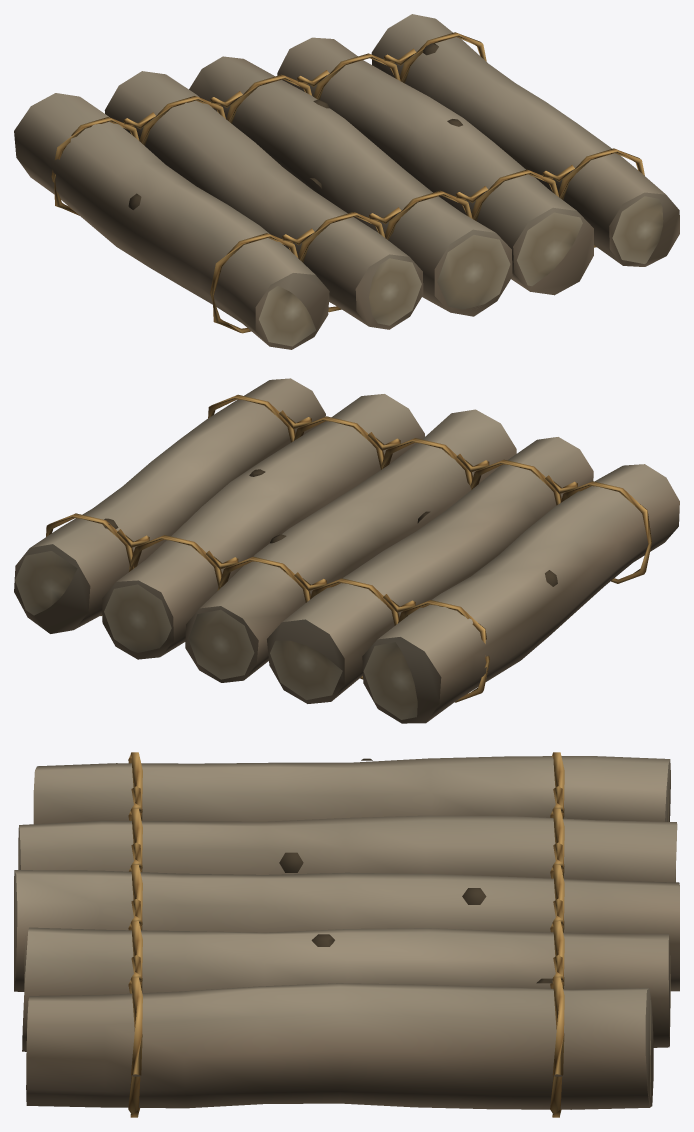
Rendered from platform_beach.glb.
3 renders of one model, top to bottom at view 1: azimuth 30°, elevation 25°; view 2: azimuth 150°, elevation 25°; view 3: azimuth 270°, elevation 25°, orthographic. The views are drawn at different scales.
Parts seen in each view (by area): view 1: platform_beach; view 2: platform_beach; view 3: platform_beach.
Part boxes in pixels (x1=…): platform_beach: x1=14, y1=14, x2=679, y2=349; platform_beach: x1=14, y1=378, x2=679, y2=723; platform_beach: x1=14, y1=752, x2=679, y2=1117.
Bounding box in the file's own units: 3 × 0.6 × 3.
